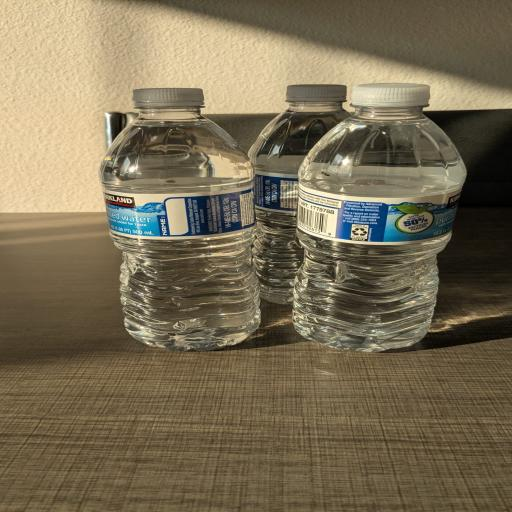waterbottle: (294, 84, 465, 351), (100, 89, 260, 350), (249, 85, 349, 303)
